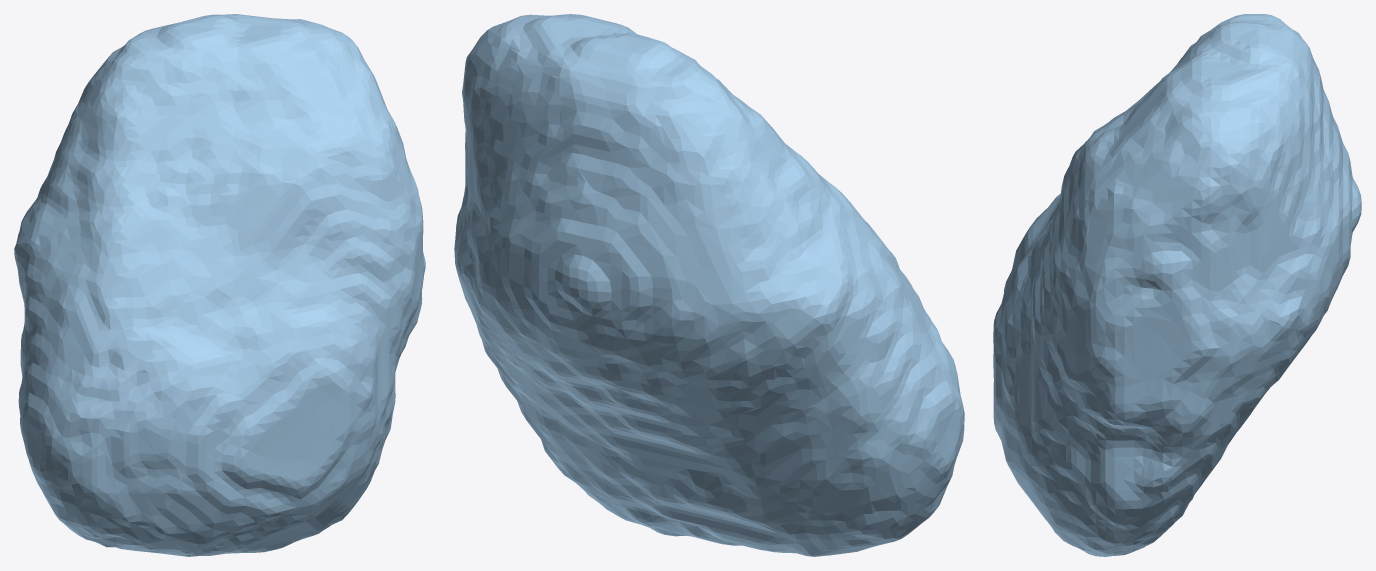
3 views of the same model, side by side, from view 1: azimuth 30°, elevation 25°; view 2: azimuth 150°, elevation 25°; view 3: azimuth 270°, elevation 25° (orthographic). The views are drawn at different scales.
Parts seen in each view (by area): view 1: world; view 2: world; view 3: world.
Boxes of the visible parts, x1=… form: world: x1=14, y1=14, x2=425, y2=556; world: x1=454, y1=14, x2=964, y2=556; world: x1=993, y1=14, x2=1361, y2=556.
Size of the model in its own units: 0.7692 by 0.894 by 0.598.
